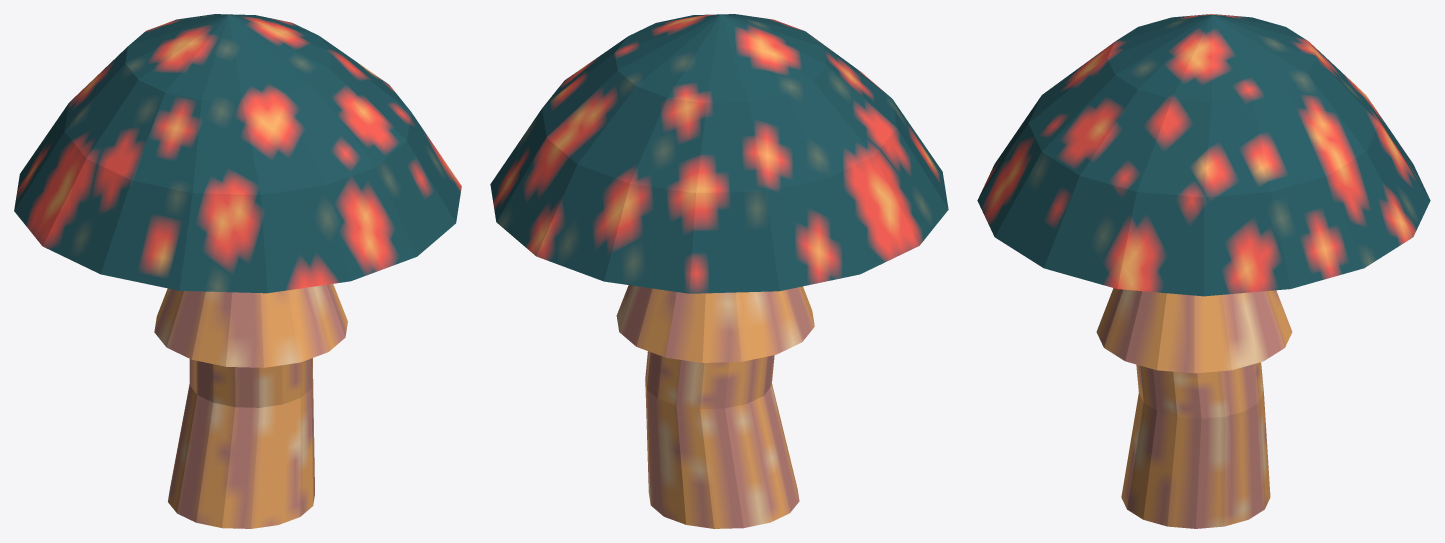
Rendered from Mushroom1.obj.
The picture shows the model from 3 angles, left to right: view 1: azimuth 30°, elevation 25°; view 2: azimuth 150°, elevation 25°; view 3: azimuth 270°, elevation 25°; orthographic projection. The views are drawn at different scales.
Visible parts, largest first — view 1: _Shroom_1_Cylinder.002; view 2: _Shroom_1_Cylinder.002; view 3: _Shroom_1_Cylinder.002.
Boxes of the visible parts, box(x1,y1,x2,y2) form: _Shroom_1_Cylinder.002: box(14, 14, 461, 528); _Shroom_1_Cylinder.002: box(490, 14, 948, 528); _Shroom_1_Cylinder.002: box(977, 14, 1430, 528).
Bounding box in the file's own units: 1.39 × 1.62 × 1.39.
